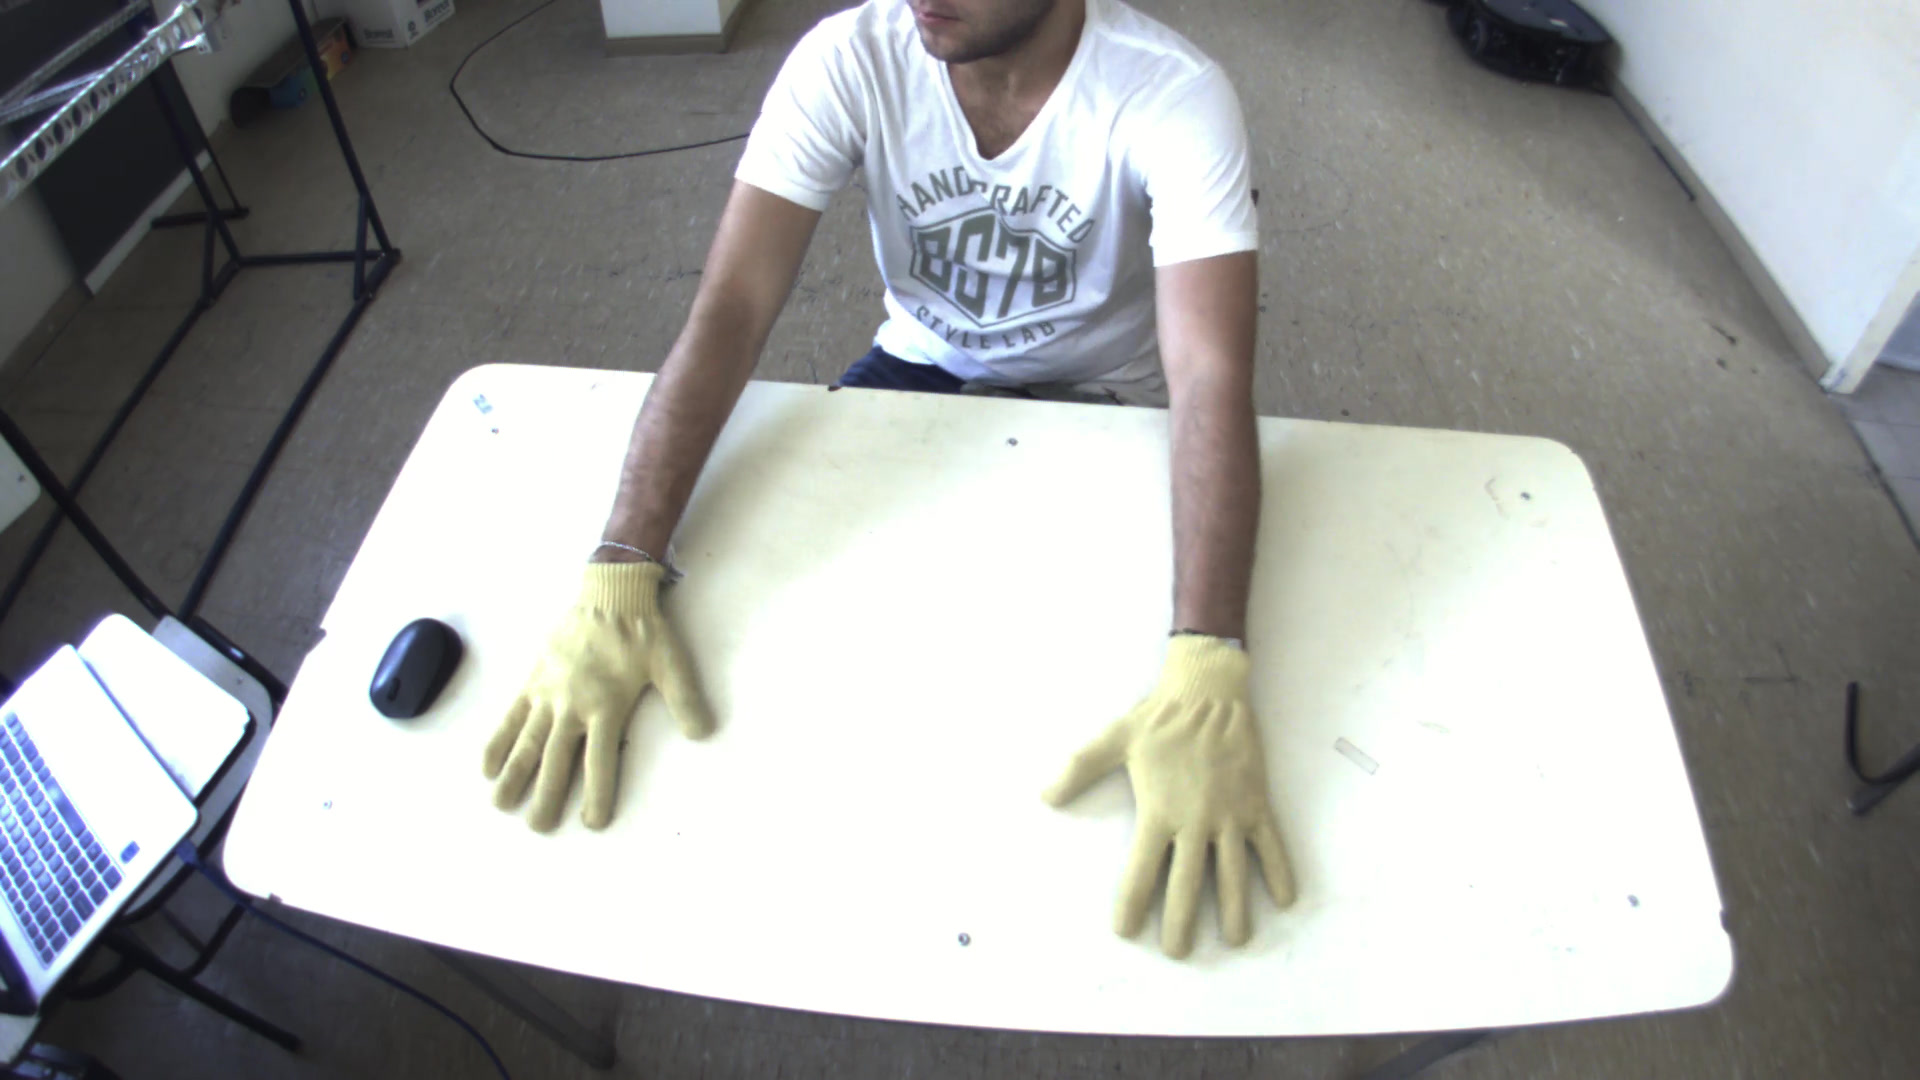hand: (1038, 625, 1331, 972), (454, 541, 723, 843)
